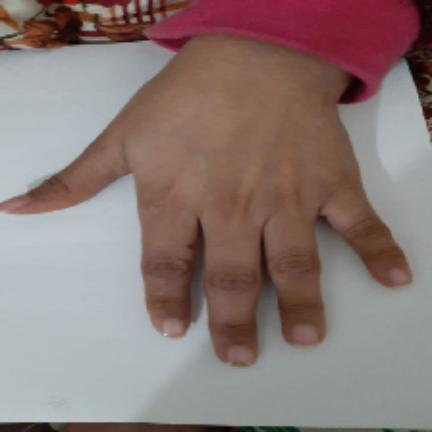Nail: (292, 323, 319, 346), (227, 344, 255, 366), (0, 194, 30, 212), (162, 318, 185, 339), (388, 267, 412, 286)
